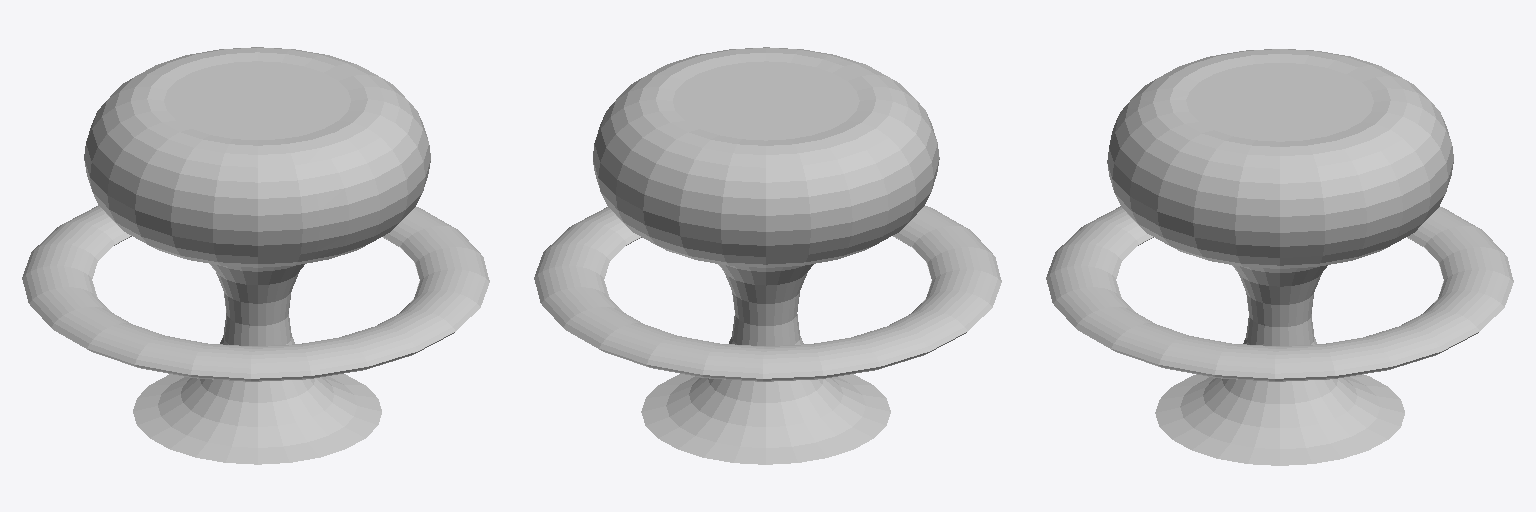
Rendered from nuke.obj.
The picture shows the model from 3 angles: view 1: azimuth 30°, elevation 25°; view 2: azimuth 150°, elevation 25°; view 3: azimuth 270°, elevation 25°; orthographic projection.
Visible parts, largest first — view 1: Mesh2 Mushroom_cloud___nuclear_blast1 Model, Mesh1 Group1 Mushroom_cloud___nuclear_blast1 Model; view 2: Mesh2 Mushroom_cloud___nuclear_blast1 Model, Mesh1 Group1 Mushroom_cloud___nuclear_blast1 Model; view 3: Mesh2 Mushroom_cloud___nuclear_blast1 Model, Mesh1 Group1 Mushroom_cloud___nuclear_blast1 Model.
Boxes of the visible parts, <box> form: Mesh2 Mushroom_cloud___nuclear_blast1 Model: <box>84,47,430,464</box>; Mesh1 Group1 Mushroom_cloud___nuclear_blast1 Model: <box>22,205,489,381</box>; Mesh2 Mushroom_cloud___nuclear_blast1 Model: <box>593,47,939,464</box>; Mesh1 Group1 Mushroom_cloud___nuclear_blast1 Model: <box>534,206,1001,381</box>; Mesh2 Mushroom_cloud___nuclear_blast1 Model: <box>1107,49,1453,465</box>; Mesh1 Group1 Mushroom_cloud___nuclear_blast1 Model: <box>1046,206,1513,381</box>.
Bounding box in the file's own units: 7498 × 5531 × 7498.